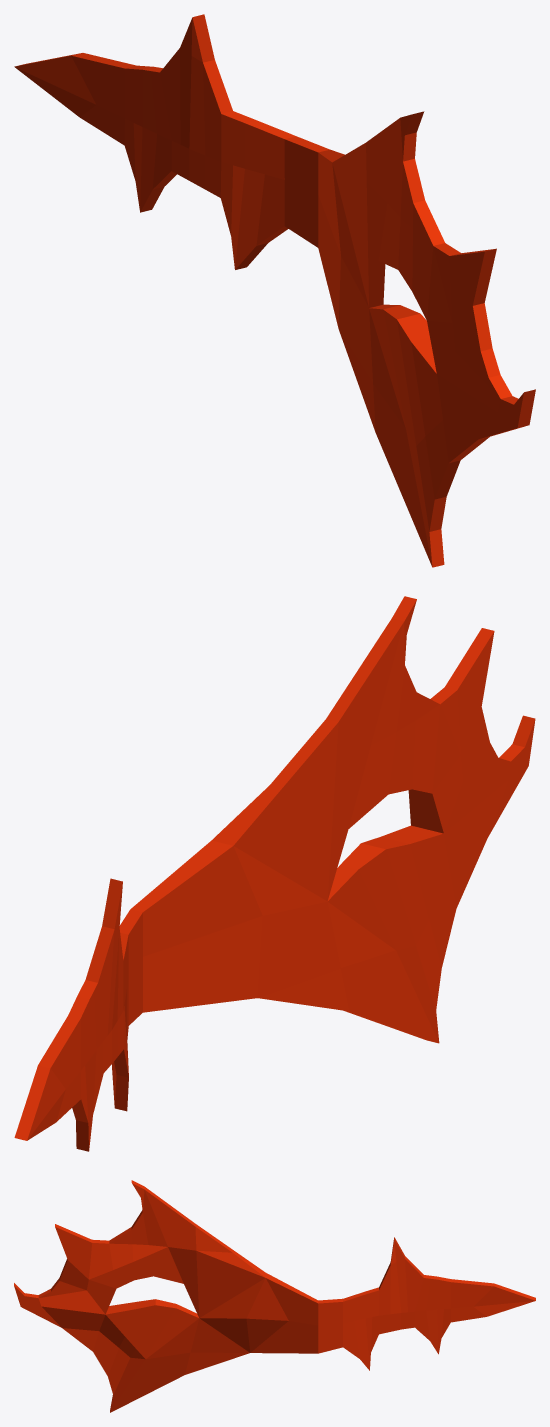
The model's file is 血灾面具.fbx.
3 views of the same model, one above another, from view 1: azimuth 30°, elevation 25°; view 2: azimuth 150°, elevation 25°; view 3: azimuth 270°, elevation 25° (orthographic). The views are drawn at different scales.
Visible parts, largest first — view 1: 血灾面具; view 2: 血灾面具; view 3: 血灾面具.
Part boxes in pixels (bbox=[...]): 血灾面具: bbox=[14, 14, 535, 567]; 血灾面具: bbox=[14, 596, 535, 1151]; 血灾面具: bbox=[14, 1180, 535, 1412].
Bounding box in the file's own units: 20.08 × 77.19 × 159.
